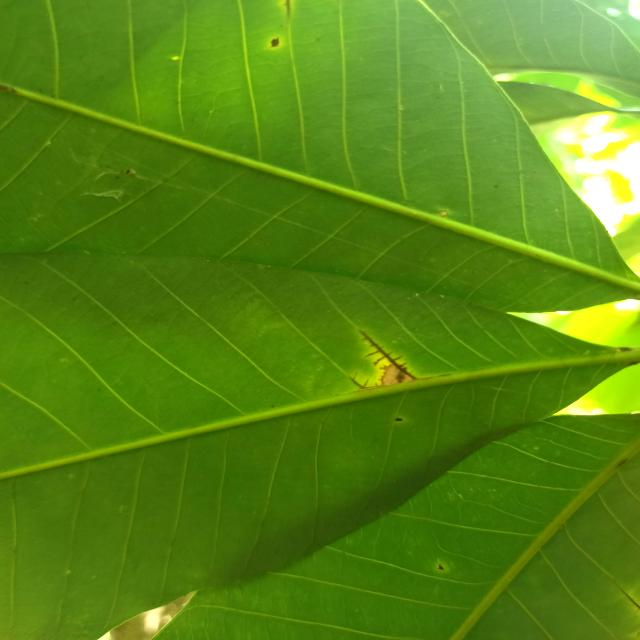Corynespora: (357, 329, 417, 380), (348, 371, 369, 390)
Leaf-Blight: (381, 364, 415, 388)
